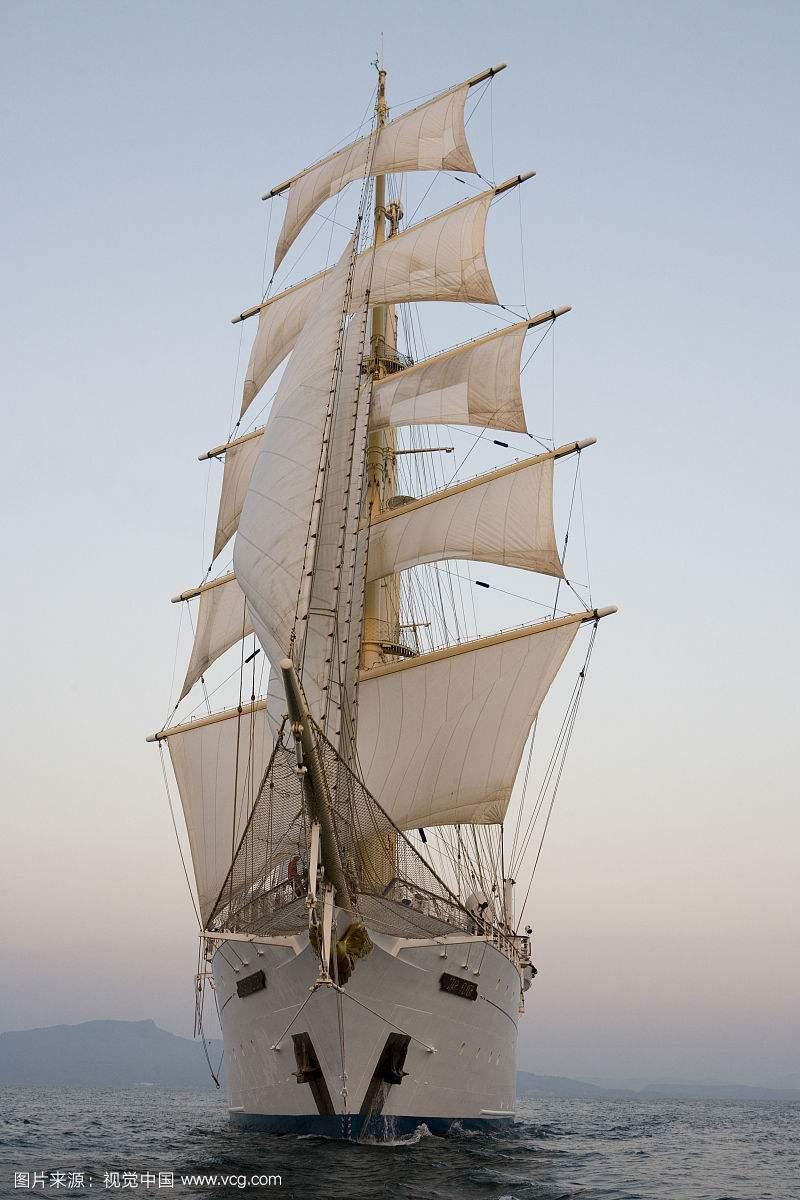fanchuan: (137, 29, 620, 1135)
